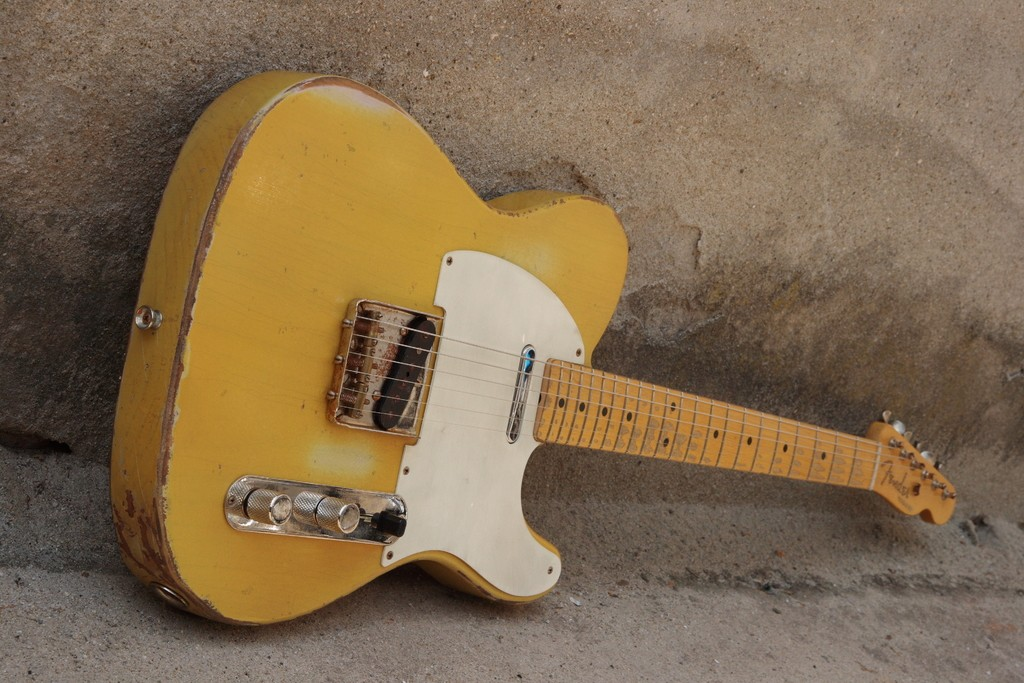guitar: (110, 71, 956, 625)
